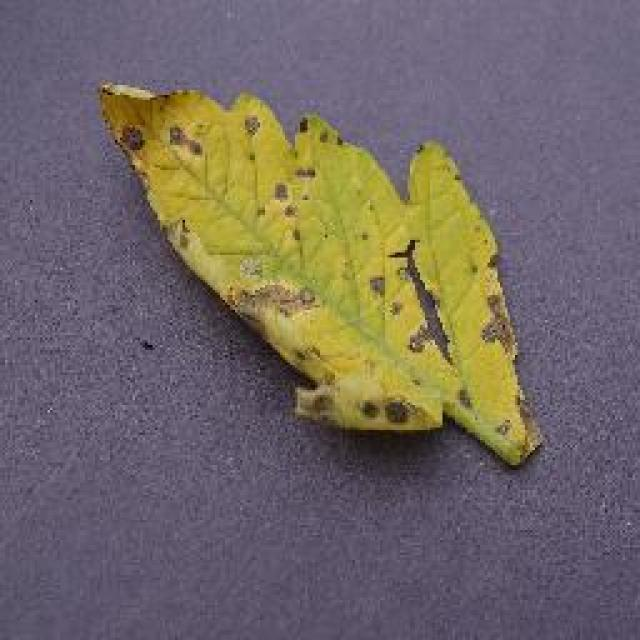Tomato Septoria spot leaf: (95, 75, 546, 475)
